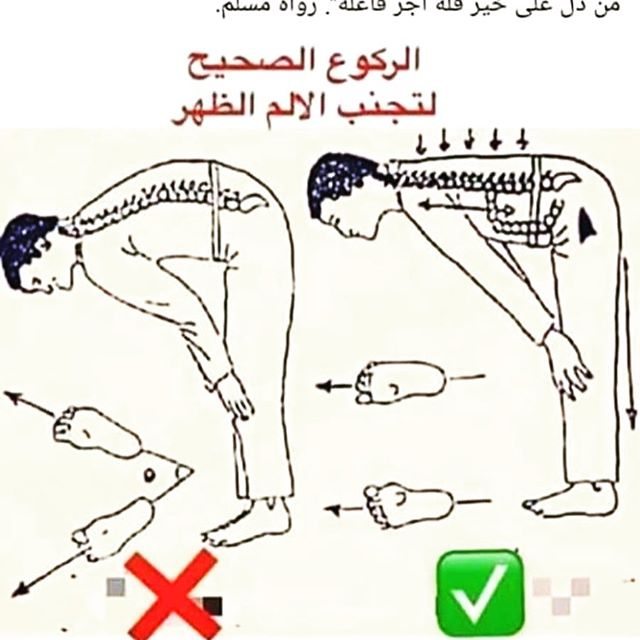ruku: (314, 134, 640, 523)
